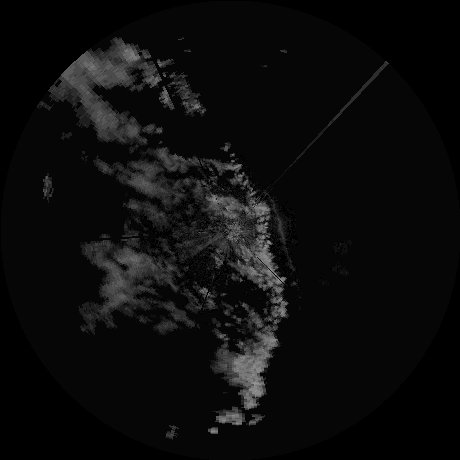frontgust: (270, 196, 294, 269)
